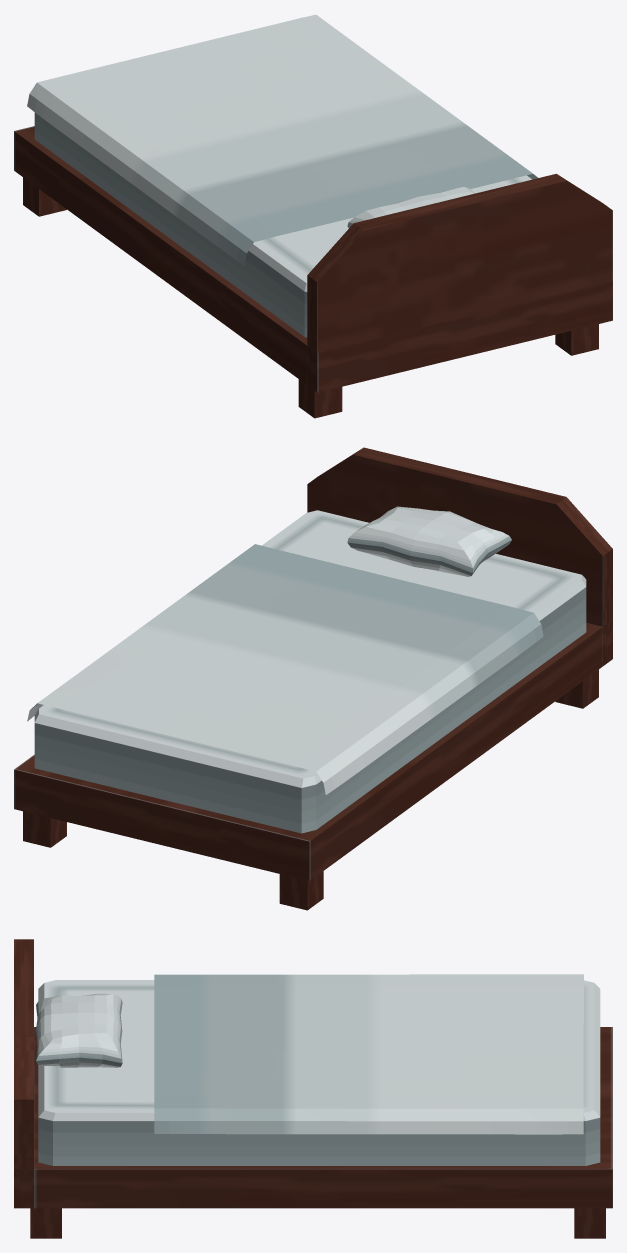
The model's file is bed.fbx.
3 renders of one model, top to bottom at view 1: azimuth 30°, elevation 25°; view 2: azimuth 150°, elevation 25°; view 3: azimuth 270°, elevation 25°, orthographic.
Visible parts, largest first — view 1: bedding, bed, mattress, Cube.002, pillow; view 2: bedding, bed, mattress, pillow, Cube.002; view 3: bedding, bed, mattress, pillow, Cube.002.
Boxes of the visible parts, x1,y1,x2,y2 form: bedding: (27,14,537,265); bed: (14,126,612,392); mattress: (34,17,531,337); Cube.002: (23,177,598,418); pillow: (347,187,474,227); bedding: (27,544,543,794); bed: (14,447,612,880); mattress: (34,510,586,833); pillow: (347,506,511,576); Cube.002: (23,669,598,910); bedding: (154,974,583,1134); bed: (14,939,612,1208); mattress: (38,980,600,1165); pillow: (36,993,122,1067); Cube.002: (30,1208,605,1238).
Size of the model in its own units: 214 by 125 by 373.
Materials: 1 (1 with a texture image).
